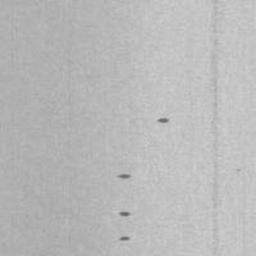Oil spot: (116, 173, 133, 180), (156, 116, 170, 124), (118, 210, 132, 218), (119, 236, 131, 242)
